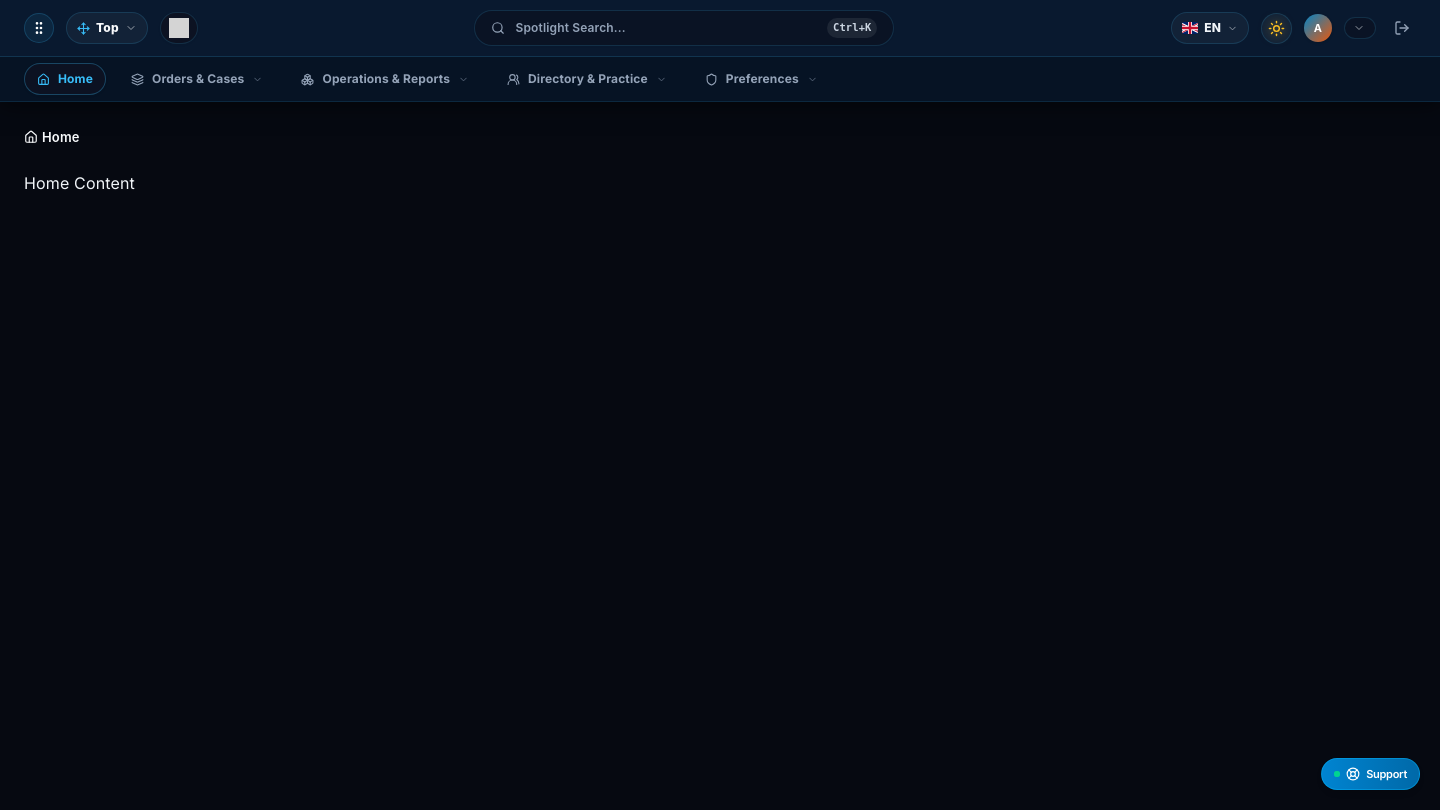
Test: Tier 2 Navbar Dropdown Visibility & Overflow Fix (UIUX-REQ-012) › Orders & Cases Dropdown Visibility › opens and visibly renders Orders & Cases dropdown menu without overflow clipping
Note: Open Orders & Cases
Click the button "Orders & Cases".
click(197, 79)  # box [118, 63, 276, 95]
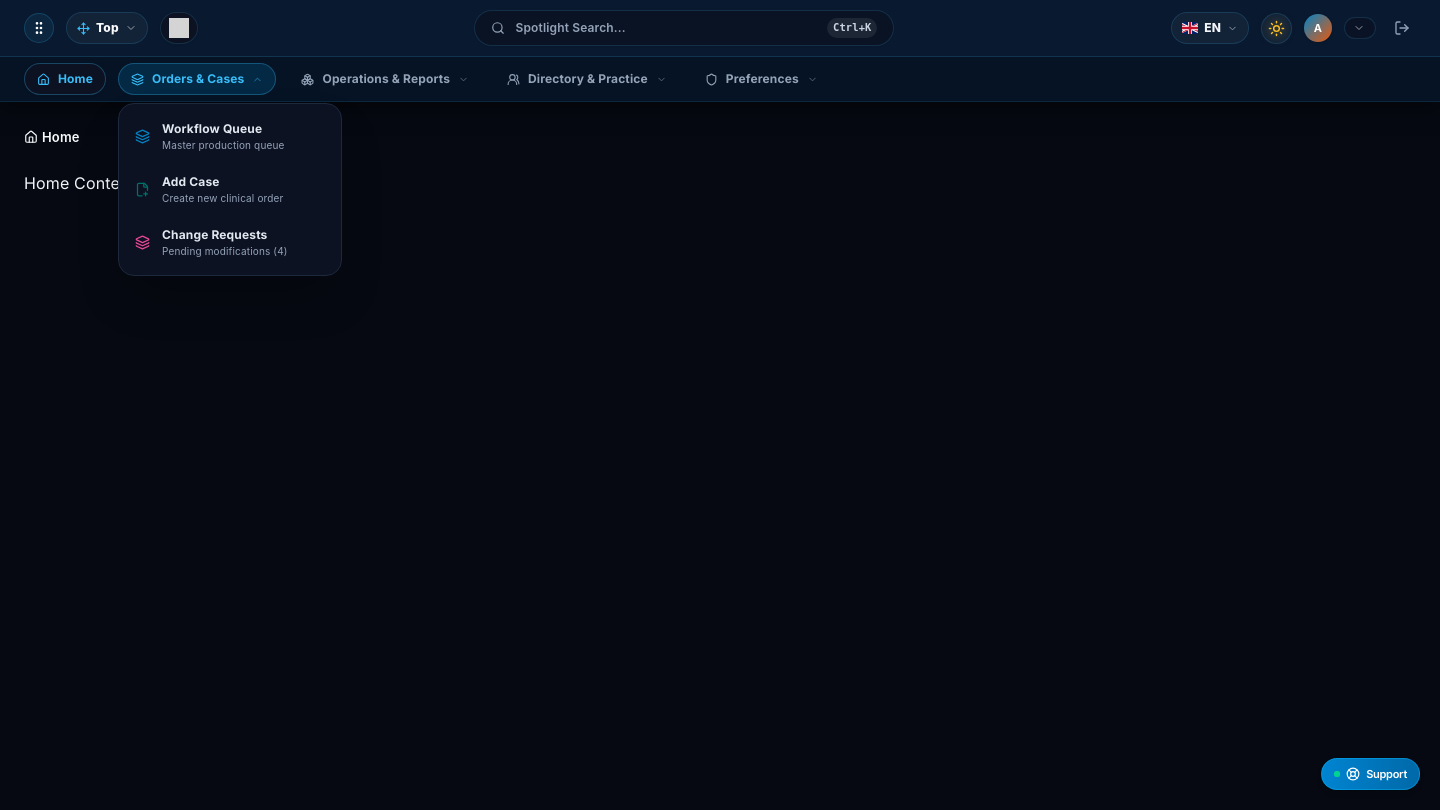
Expected: the button "Orders & Cases" is expanded, [118, 63, 276, 95]
Expected: the element with test id "orders-dropdown-menu" is shown, [118, 103, 342, 276]
Expected: the text "Workflow Queue" is shown, [162, 121, 262, 136]
